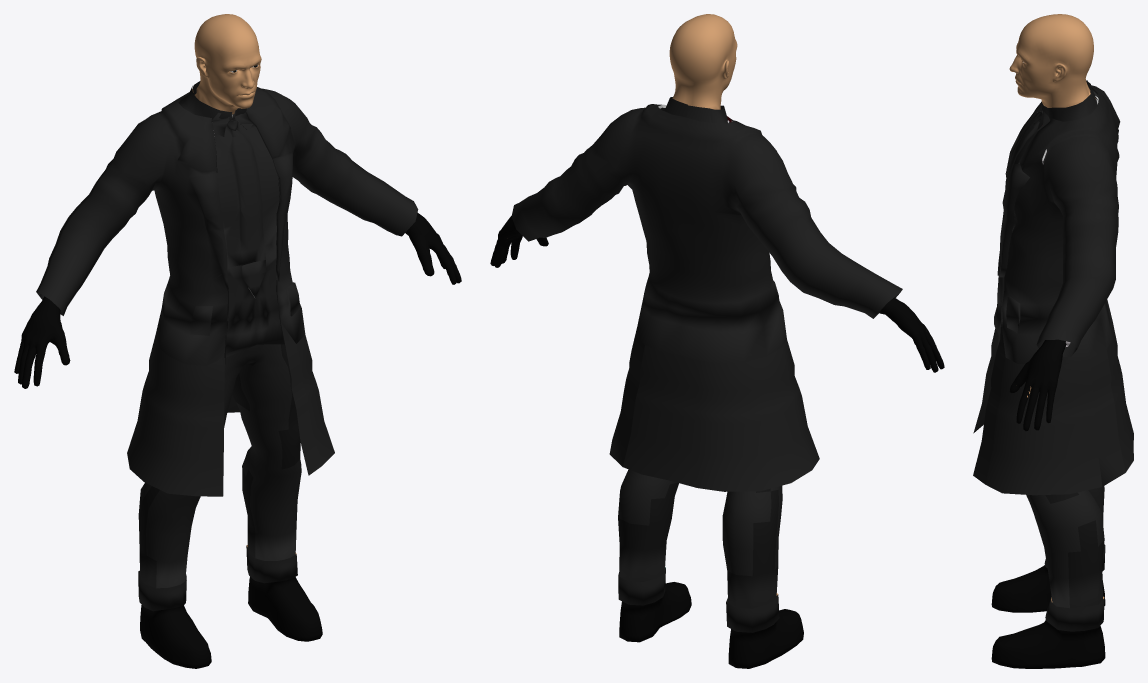
Rendered from body guard.fbx.
3 views of the same model, side by side, from view 1: azimuth 30°, elevation 25°; view 2: azimuth 150°, elevation 25°; view 3: azimuth 270°, elevation 25° (orthographic).
Parts seen in each view (by area): view 1: body guard; view 2: body guard; view 3: body guard.
Part boxes in pixels (x1,y1,x2,y2): body guard: (14, 14, 461, 668); body guard: (490, 14, 944, 668); body guard: (973, 14, 1133, 668).
Size of the model in its own units: 481 by 638 by 151.
